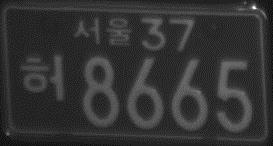3: (139, 15, 166, 51)
5: (215, 59, 255, 133)
6: (125, 54, 164, 131), (171, 57, 209, 133)
7: (166, 16, 195, 53)
8: (81, 54, 119, 128)
서울_O: (72, 15, 133, 48)
허: (20, 53, 65, 104)
